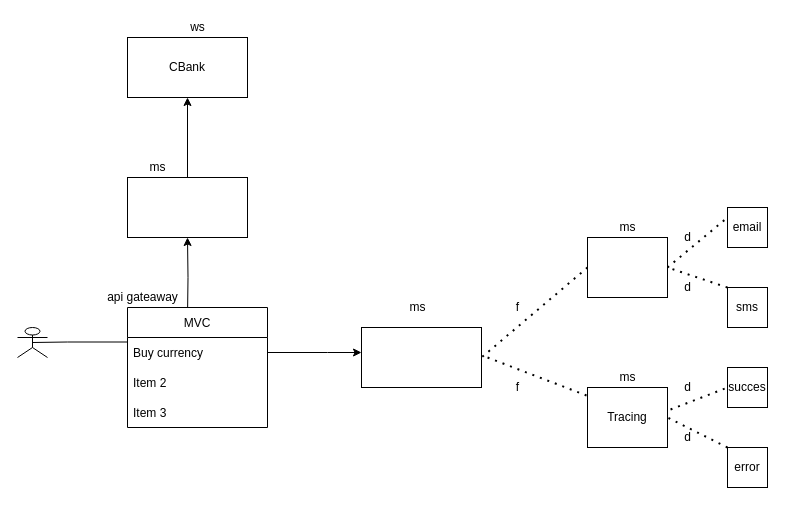
Image size: 785x505. Some labels were removed from this diagram. The shapes that lost their labels are listed below. From the top down, each one's centre as x and y in pixels, then its label:
At point (187, 207): "CurrencyBacground".
At point (627, 267): "Notifications".
At point (32, 342): "User".
At point (421, 357): "Transaction".
